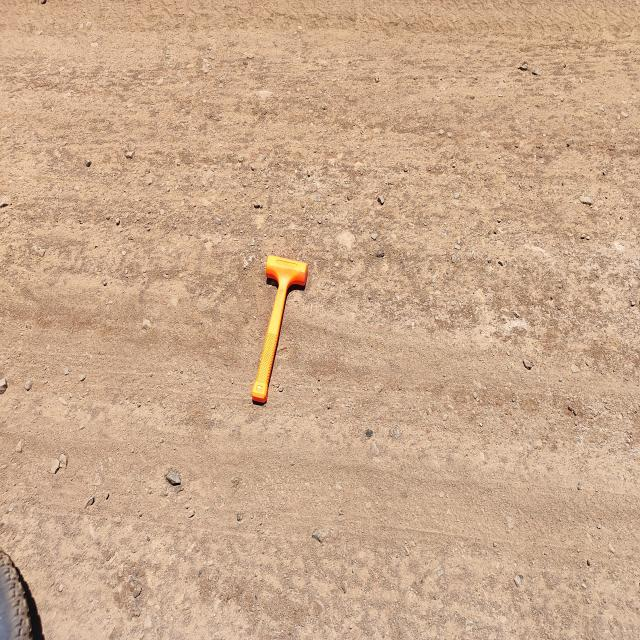Orange_hammer: (250, 254, 308, 405)
